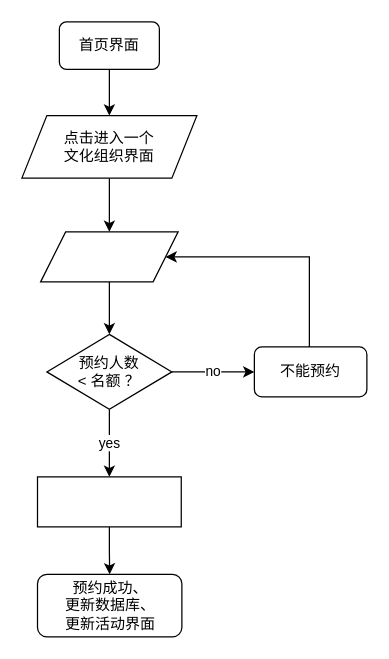
The diagram is 389 pixels wide and 659 high, and some of its shapes have lost their labels. Each missing label, with the centre of its shape:
"选择日期" goes at [108,256].
"预约按钮响应程序" goes at [108,501].
